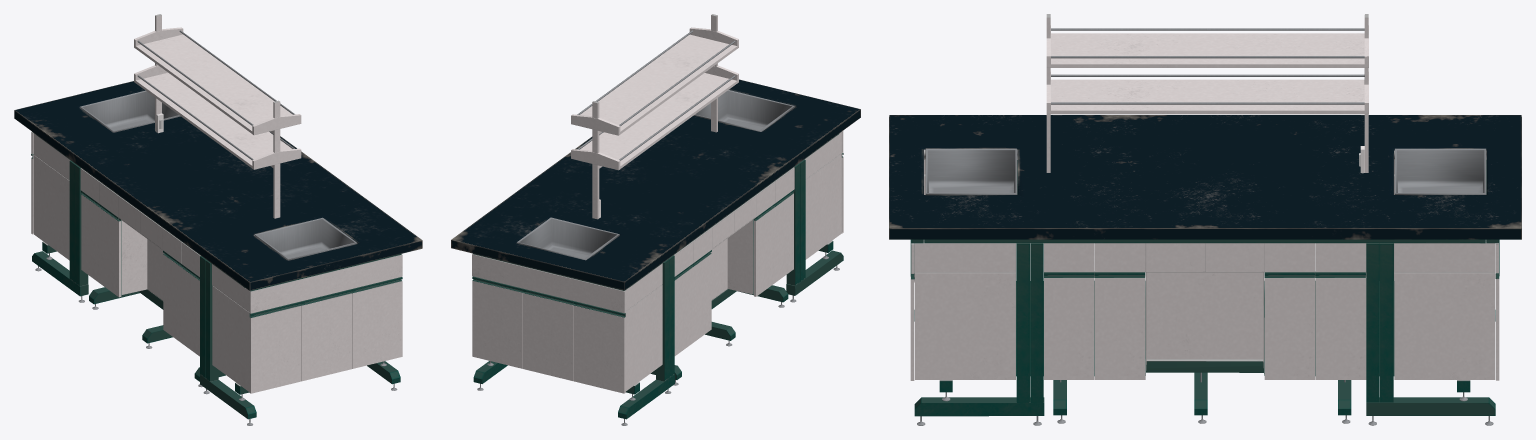
The model's file is lavabo.obj.
The picture shows the model from 3 angles, left to right: view 1: azimuth 30°, elevation 25°; view 2: azimuth 150°, elevation 25°; view 3: azimuth 270°, elevation 25°; orthographic projection. The views are drawn at different scales.
Parts seen in each view (by area): view 1: table_full_27; view 2: table_full_27; view 3: table_full_27.
Boxes of the visible parts, <box> form: table_full_27: <box>14,14,422,425</box>; table_full_27: <box>451,14,860,425</box>; table_full_27: <box>889,14,1521,425</box>.
Size of the model in its own units: 4.11 by 6.13 by 9.69.
Materials: 1 (1 with a texture image).
